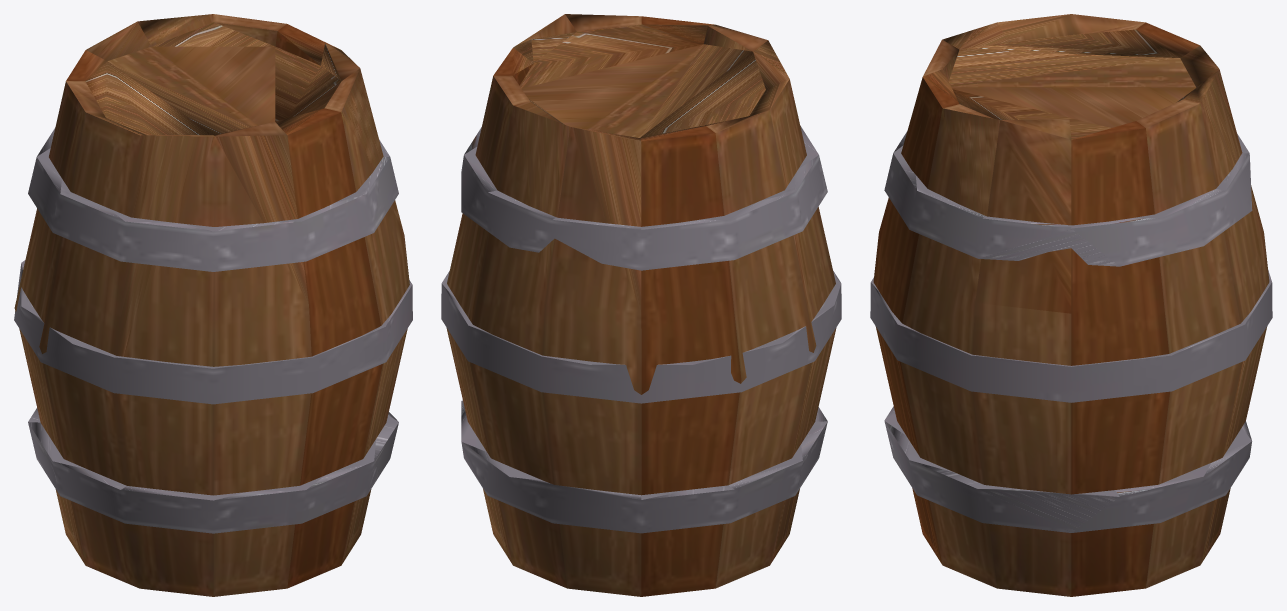
Rendered from Barrel.medium.gltf.
3 renders of one model, left to right at view 1: azimuth 30°, elevation 25°; view 2: azimuth 150°, elevation 25°; view 3: azimuth 270°, elevation 25°, orthographic.
Parts seen in each view (by area): view 1: Barrel; view 2: Barrel; view 3: Barrel.
Boxes of the visible parts, x1,y1,x2,y2 form: Barrel: (14, 14, 412, 596); Barrel: (441, 14, 841, 596); Barrel: (870, 14, 1272, 596).
Bounding box in the file's own units: 0.698 × 0.898 × 0.698.
2 materials, 2 textured.
